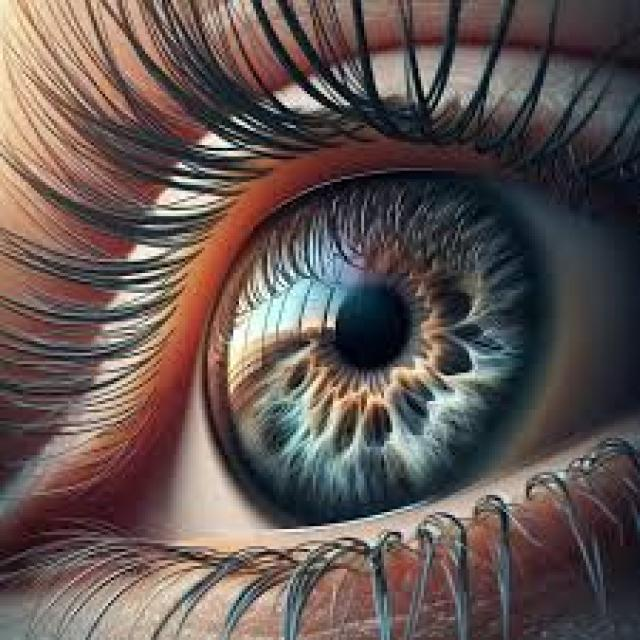Eyes-iris: (182, 156, 568, 526)
